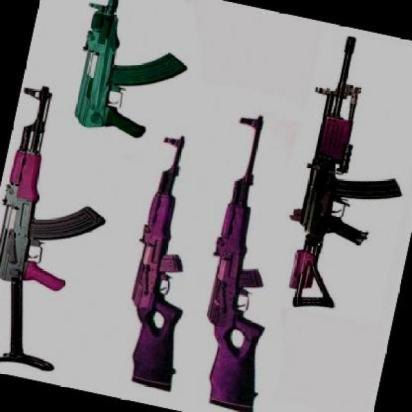Gun: (177, 107, 320, 412), (270, 33, 412, 326), (0, 79, 130, 383), (97, 123, 229, 397), (59, 0, 204, 147)
